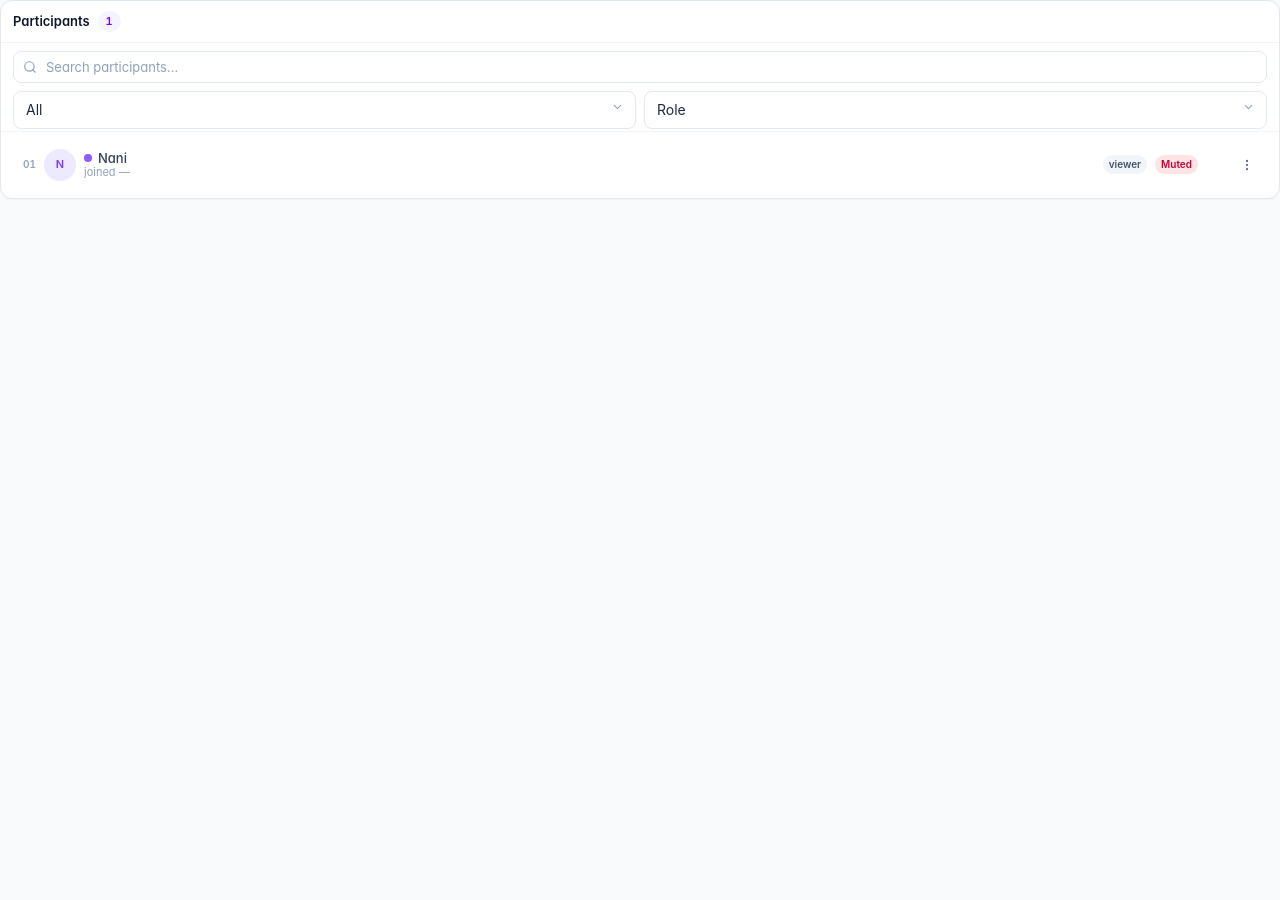
across every state › publishing, muted offers the action that works
Click the button named "more actions for": click(1247, 164) x1=1234 y1=150 x2=1260 y2=178
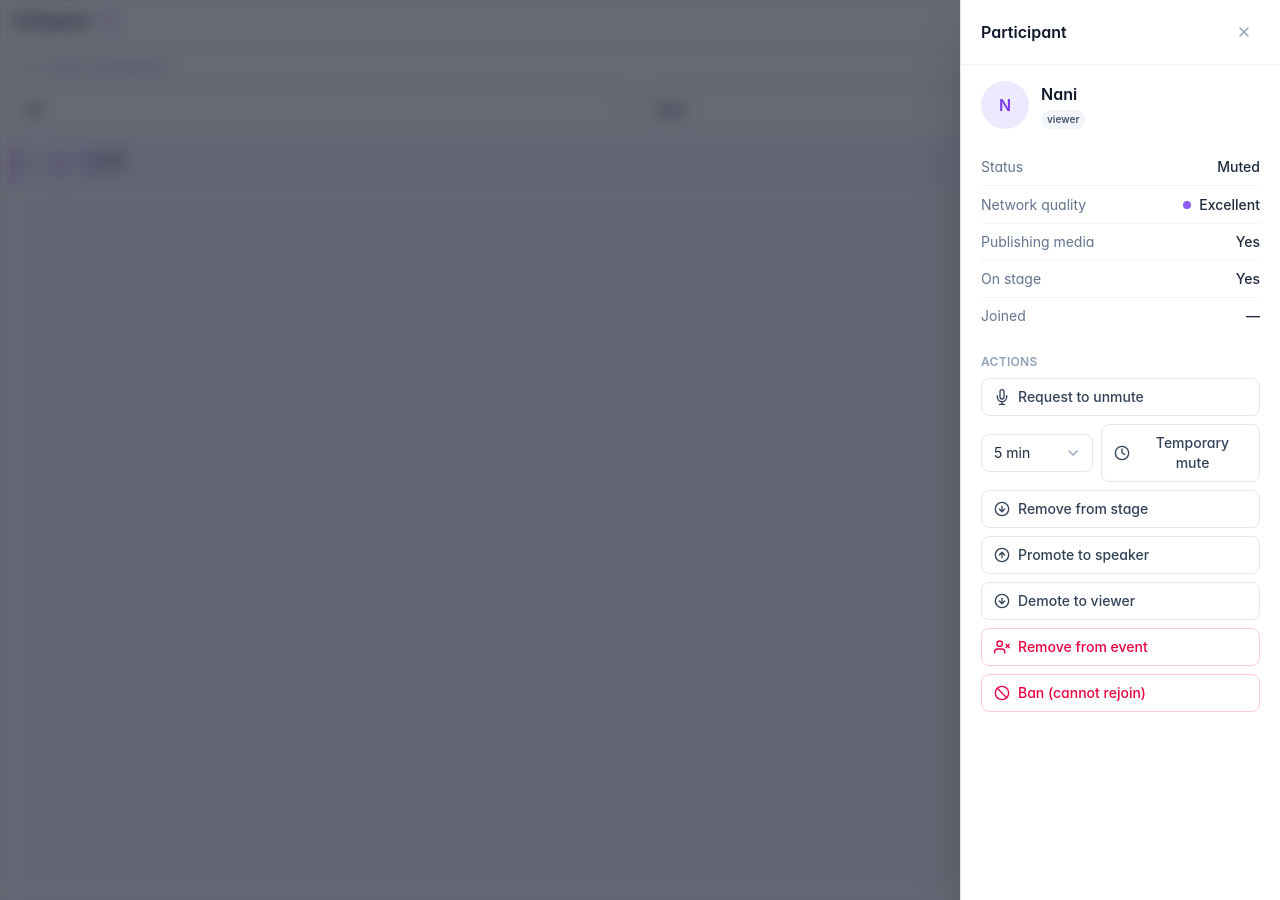
Expected: the button "Request to unmute" is shown, x1=981 y1=378 x2=1260 y2=416
